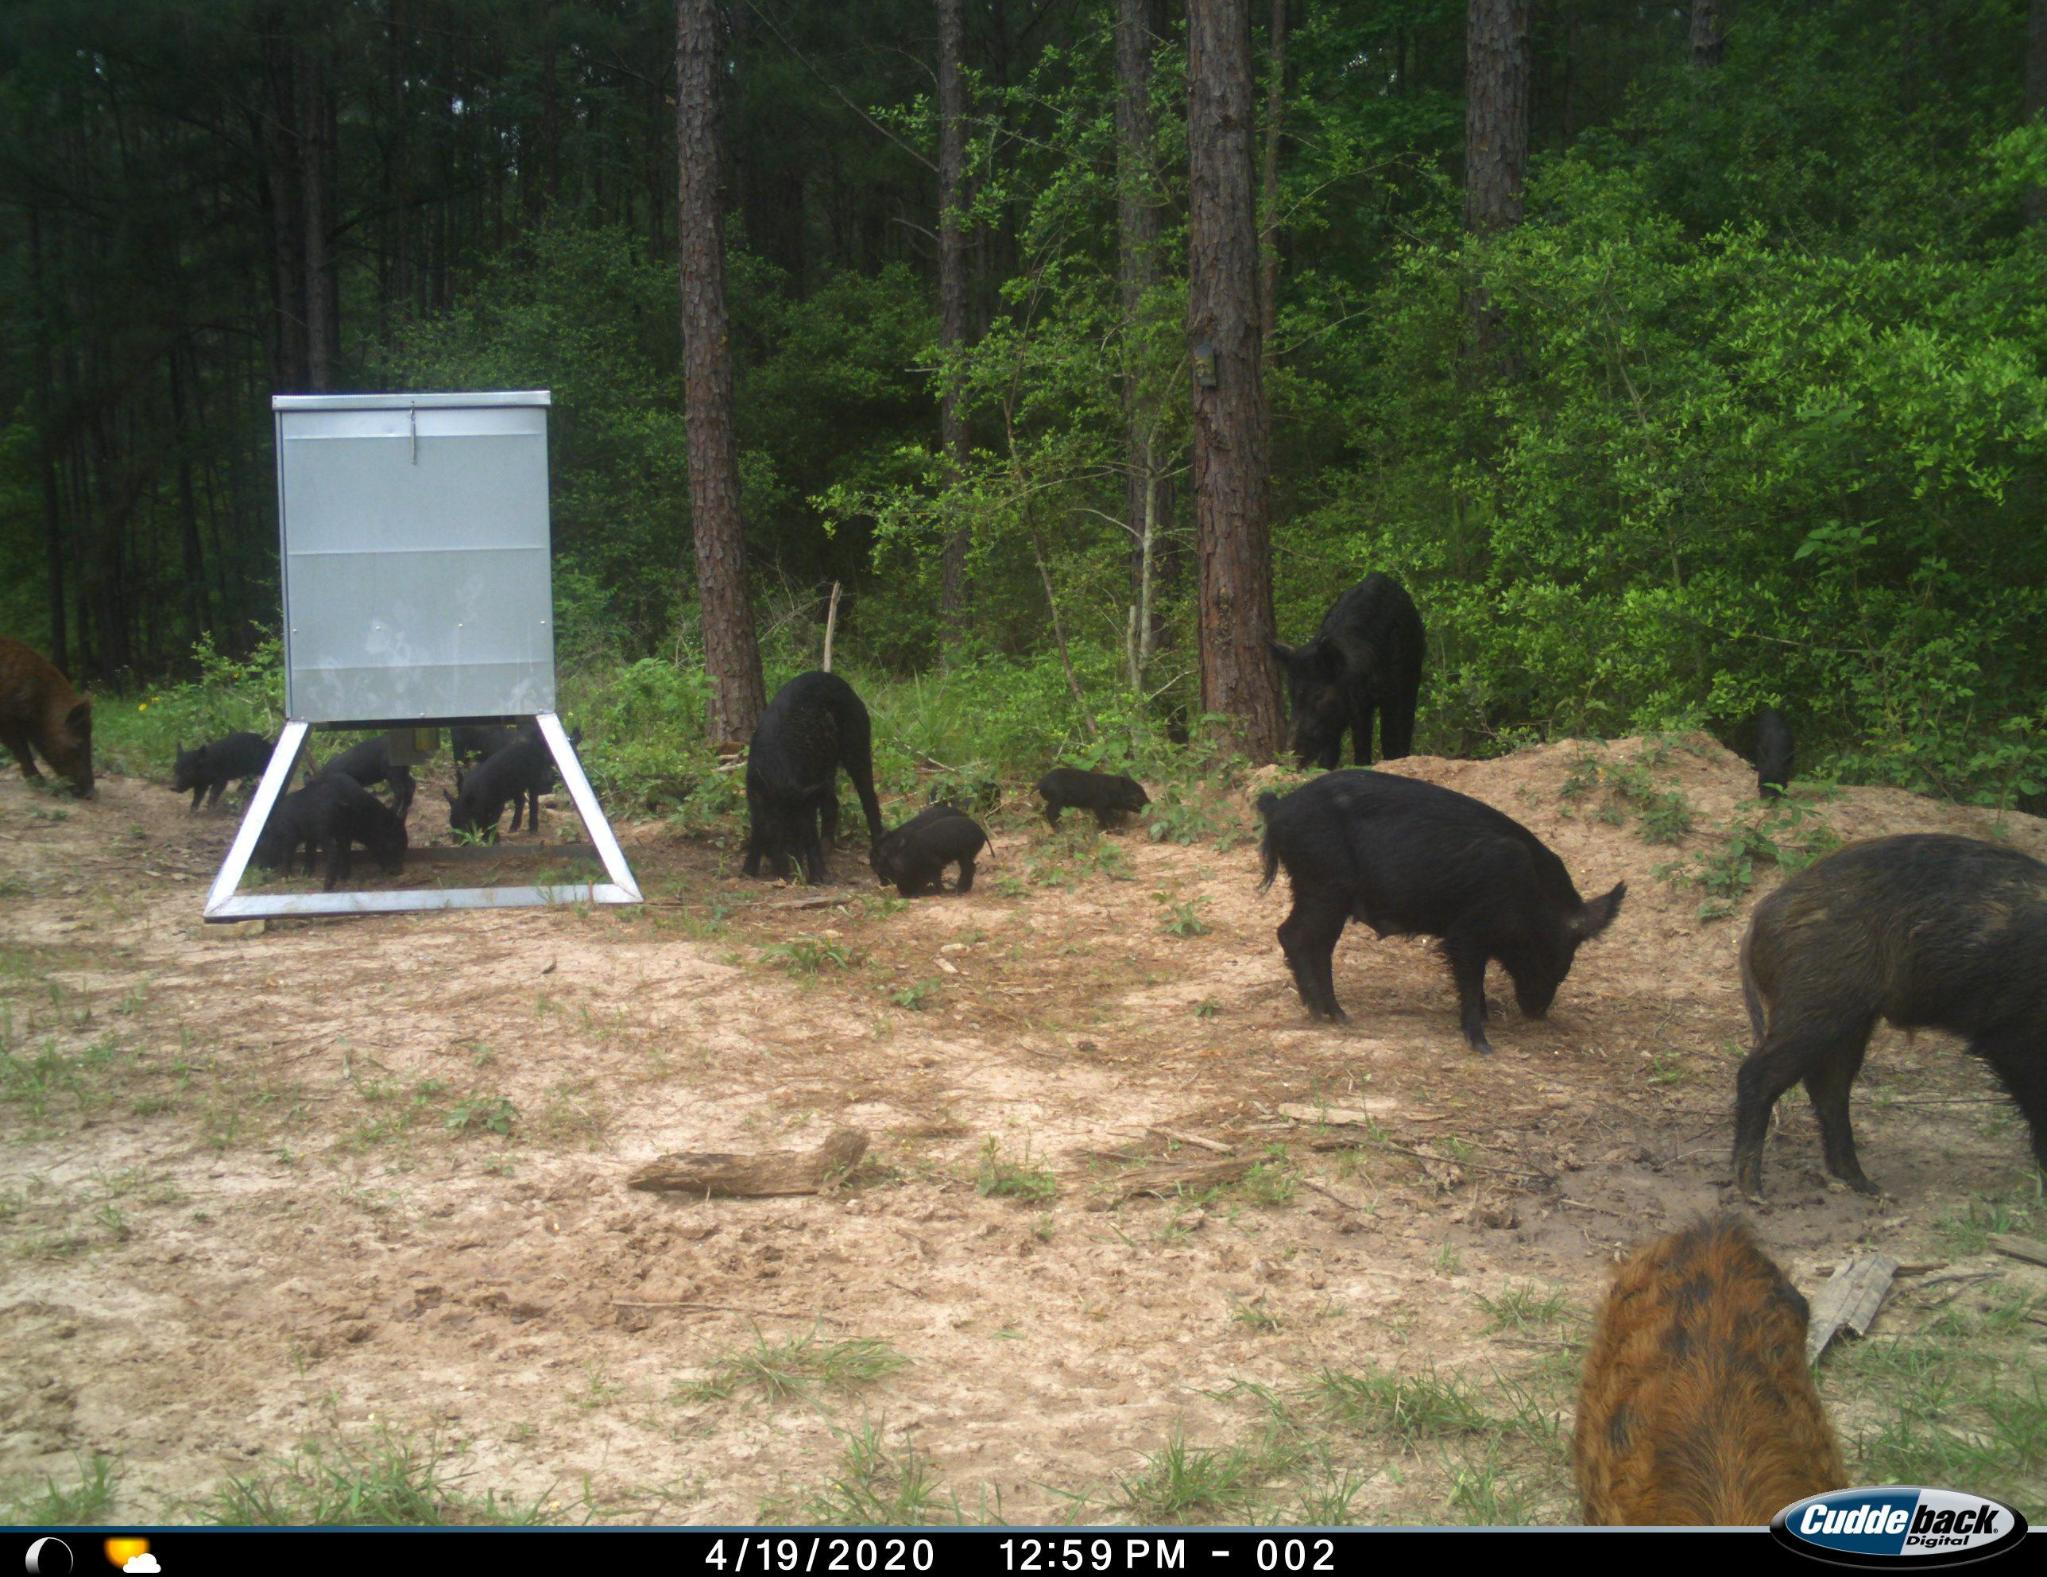Hog: (1711, 817, 2044, 1199), (1240, 760, 1636, 1047), (1568, 1209, 1885, 1537), (1270, 563, 1449, 764), (739, 656, 889, 886), (2, 611, 114, 812), (272, 775, 419, 881), (455, 734, 555, 853), (881, 800, 997, 898), (157, 717, 283, 807), (1030, 754, 1156, 837), (311, 734, 422, 823)
